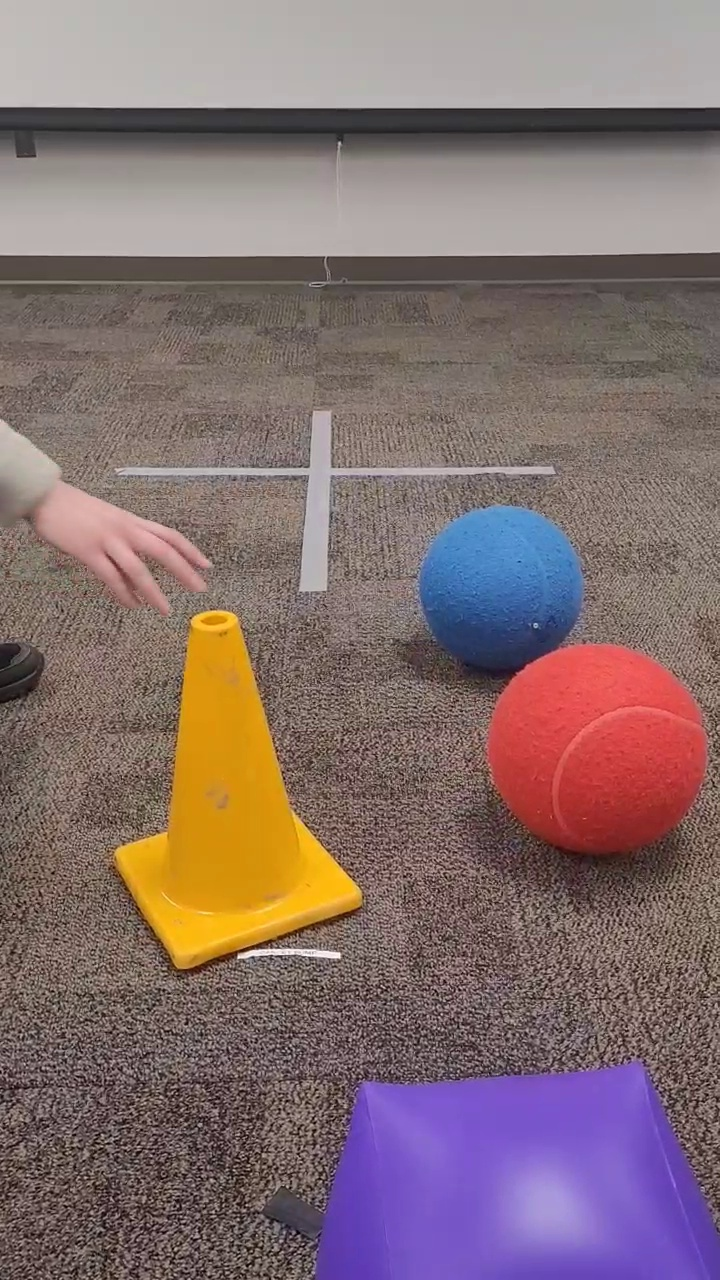ball: (480, 636, 711, 862), (417, 501, 585, 674)
cone: (107, 604, 367, 977)
cube: (311, 1058, 718, 1277)
foot: (1, 634, 48, 709)
hand: (1, 413, 215, 618)
